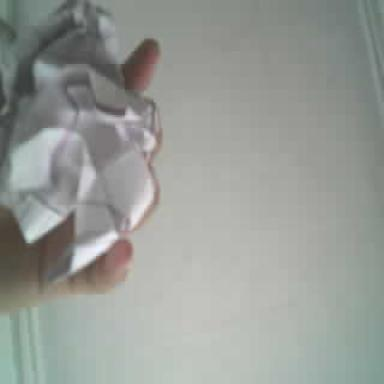paper: (0, 0, 160, 278)
